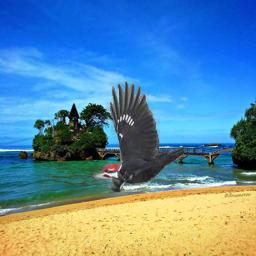Woodpecker: (92, 81, 187, 192)
